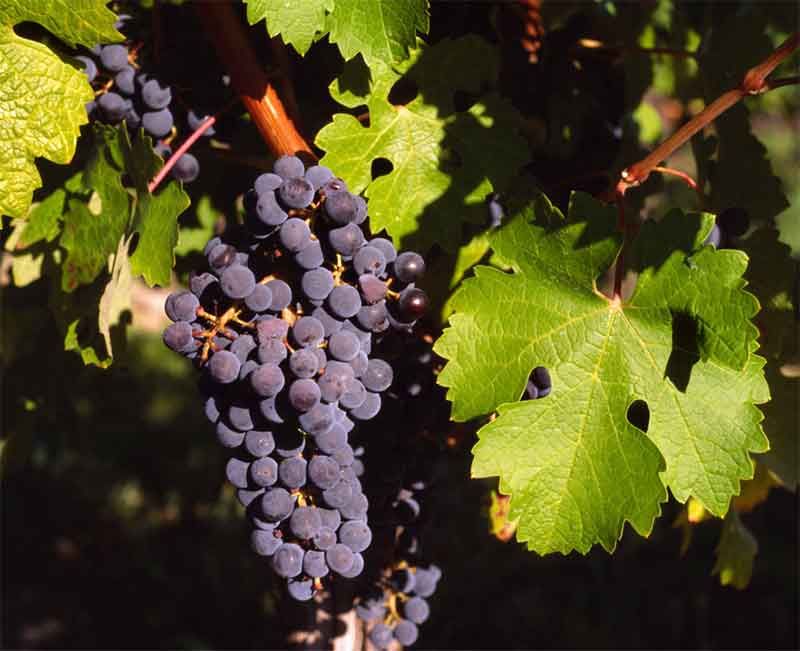Black grapes: (250, 165, 402, 595), (81, 44, 217, 169)
